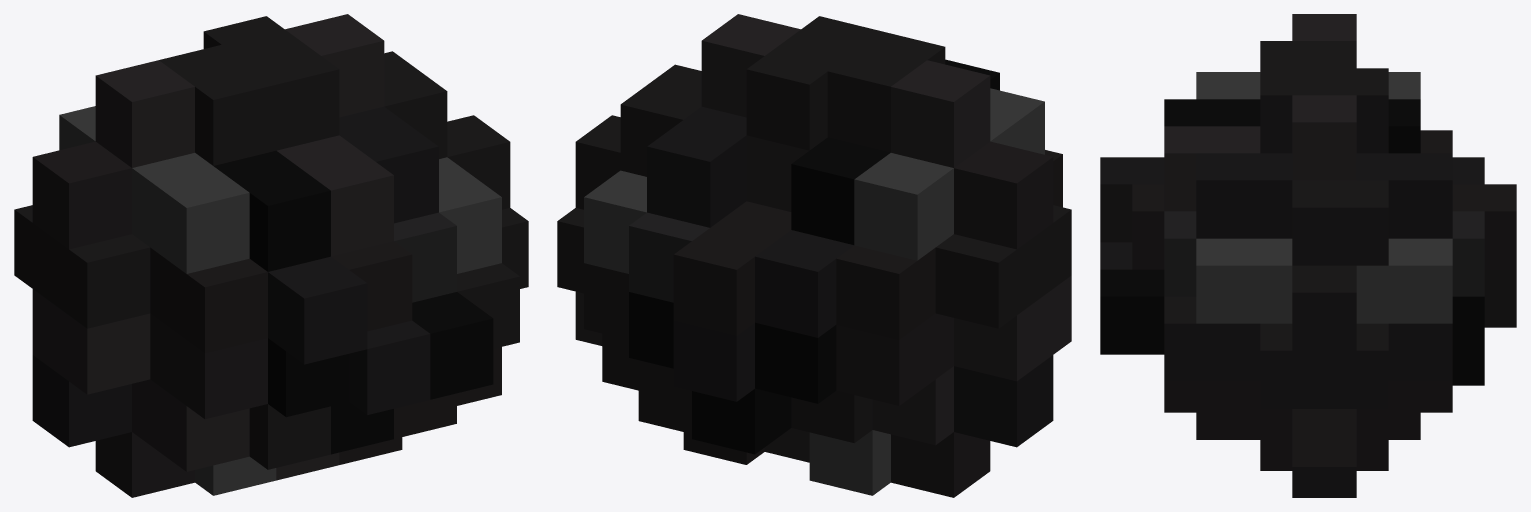
File: Coal_nugget.glb
3 renders of one model, left to right at view 1: azimuth 30°, elevation 25°; view 2: azimuth 150°, elevation 25°; view 3: azimuth 270°, elevation 25°, orthographic. The views are drawn at different scales.
Parts seen in each view (by area): view 1: generated(Clone); view 2: generated(Clone); view 3: generated(Clone).
Part boxes in pixels (x1,y1,x2,y2): generated(Clone): (14,14,528,497); generated(Clone): (557,14,1071,497); generated(Clone): (1100,14,1516,497).
Size of the model in its own units: 7 by 6 by 6.5.
Materials: 1 (1 with a texture image).
